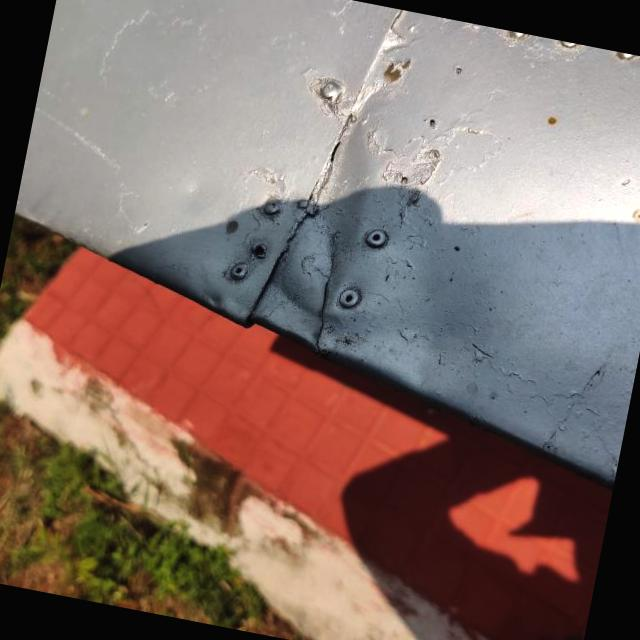crack: (290, 265, 366, 369)
